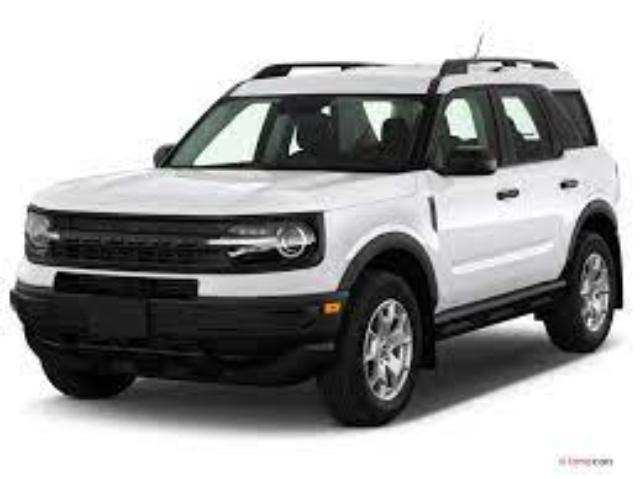ford: (8, 32, 624, 428)
